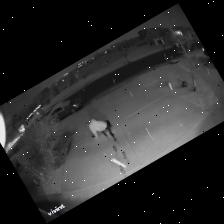person: (86, 119, 117, 141)
